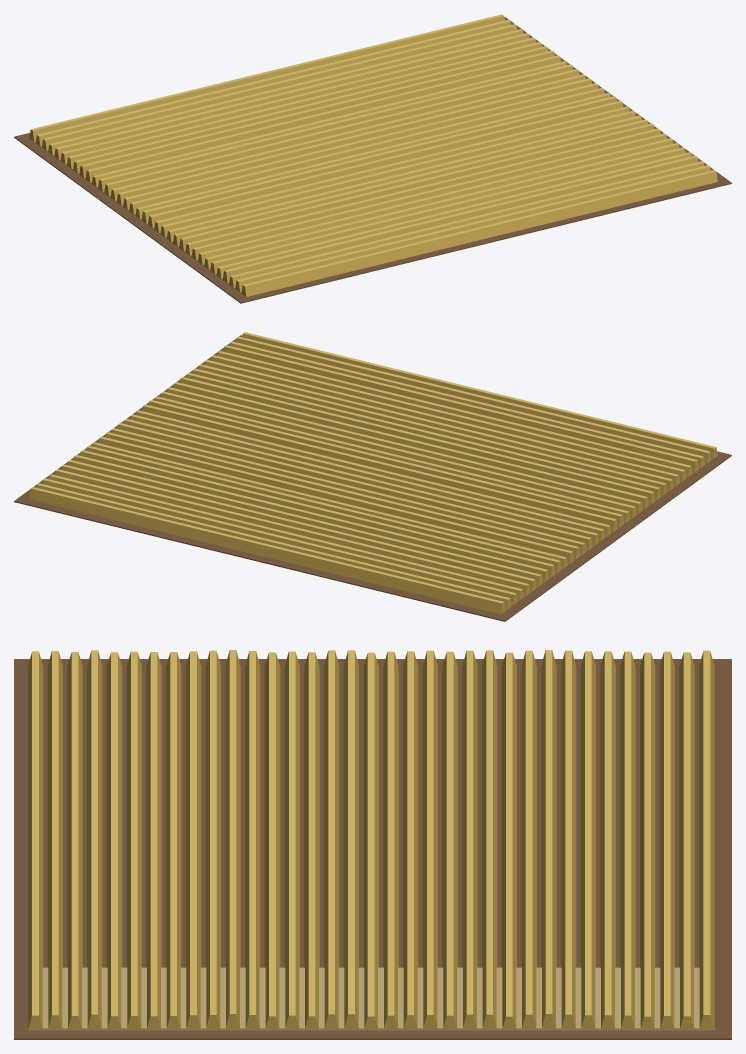
File: Kir_alan_ekin_2_Hafif.fbx
3 renders of one model, top to bottom at view 1: azimuth 30°, elevation 25°; view 2: azimuth 150°, elevation 25°; view 3: azimuth 270°, elevation 25°, orthographic. The views are drawn at different scales.
Parts seen in each view (by area): view 1: Kir_alan_ekin_2_Hafif; view 2: Kir_alan_ekin_2_Hafif; view 3: Kir_alan_ekin_2_Hafif.
Part boxes in pixels (x1=…): Kir_alan_ekin_2_Hafif: x1=14, y1=14, x2=731, y2=303; Kir_alan_ekin_2_Hafif: x1=14, y1=332, x2=731, y2=621; Kir_alan_ekin_2_Hafif: x1=14, y1=650, x2=731, y2=1039.
Bounding box in the file's own units: 50 × 1.12 × 40.
